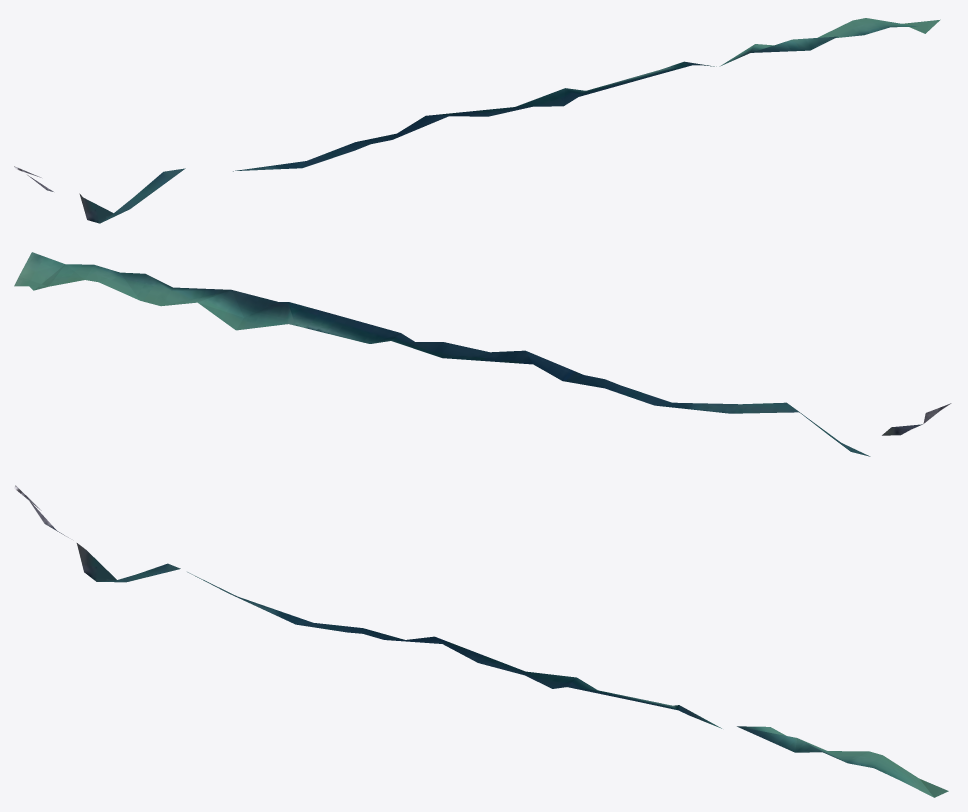
Rendered from Tile_+007_+008.glb.
3 views of the same model, one above another, from view 1: azimuth 30°, elevation 25°; view 2: azimuth 150°, elevation 25°; view 3: azimuth 330°, elevation 25° (orthographic).
Visible parts, largest first — view 1: rtc; view 2: rtc; view 3: rtc.
Boxes of the visible parts, left/top/right/bottom form: rtc: left=14, top=18, right=940, bottom=223; rtc: left=14, top=252, right=951, bottom=456; rtc: left=14, top=485, right=948, bottom=797.
Size of the model in its own units: 191 by 19.9 by 6.63.
1 material, 1 textured.
